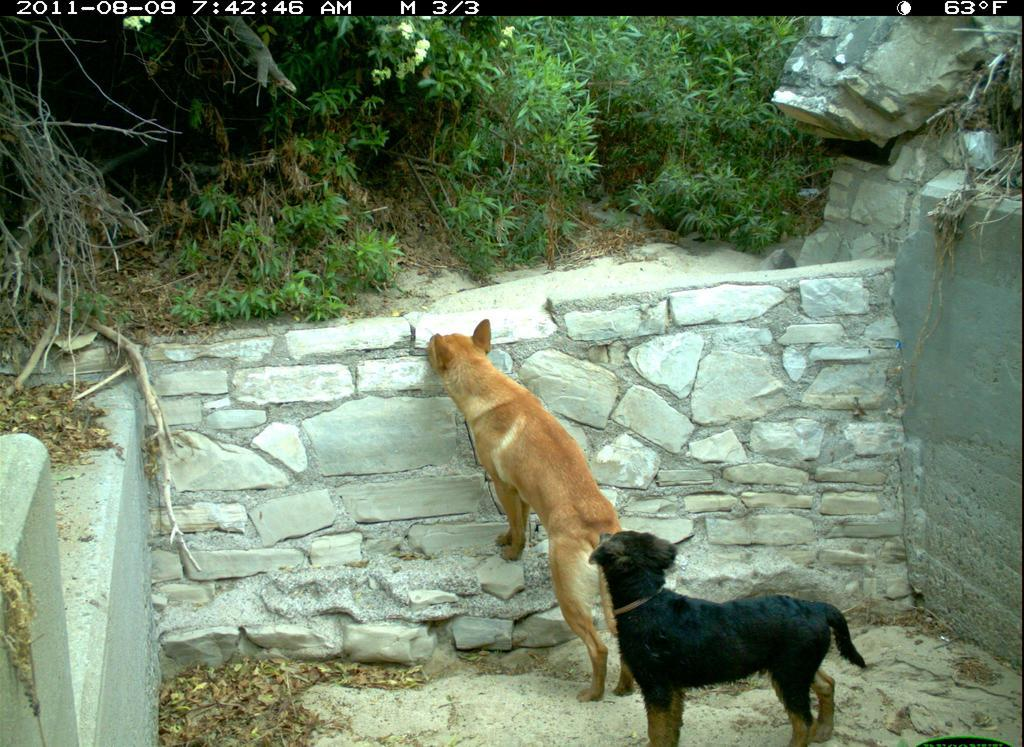dog: (425, 317, 639, 705), (589, 528, 871, 745)
